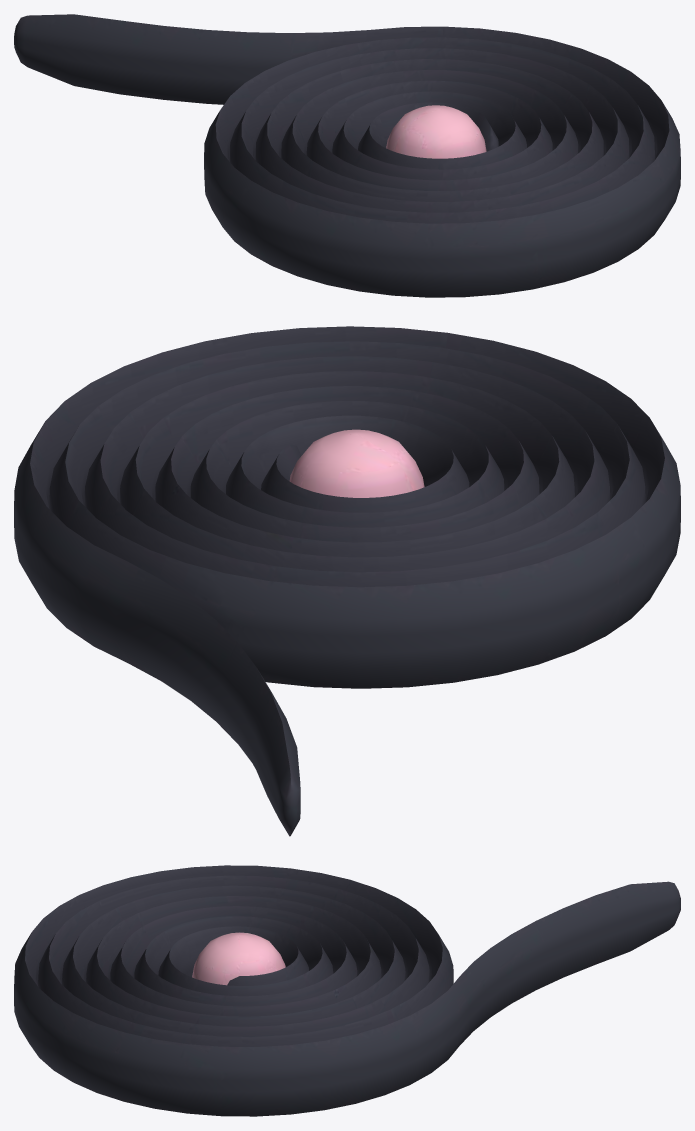
File: regaliz.glb
3 views of the same model, one above another, from view 1: azimuth 30°, elevation 25°; view 2: azimuth 150°, elevation 25°; view 3: azimuth 270°, elevation 25° (orthographic). The views are drawn at different scales.
Visible parts, largest first — view 1: licorice-wheel_body; view 2: licorice-wheel_body; view 3: licorice-wheel_body.
Boxes of the visible parts, left/top/right/bottom form: licorice-wheel_body: left=14, top=14, right=680, bottom=297; licorice-wheel_body: left=14, top=326, right=680, bottom=836; licorice-wheel_body: left=14, top=865, right=680, bottom=1116.
Size of the model in its own units: 0.0619 by 0.0132 by 0.0914.
1 material, 1 textured.
